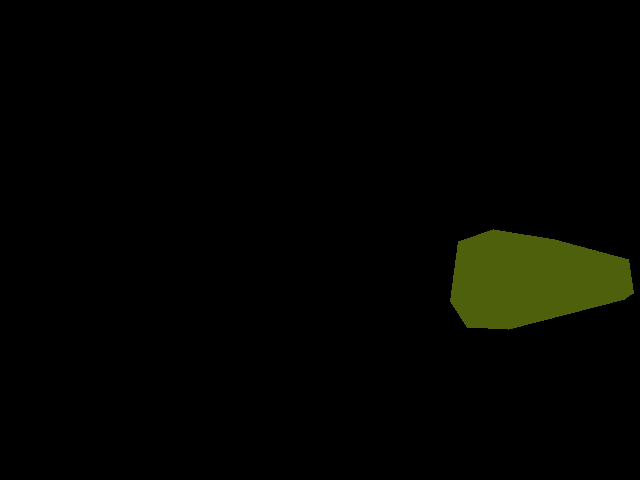Train: (450, 229, 633, 330)
